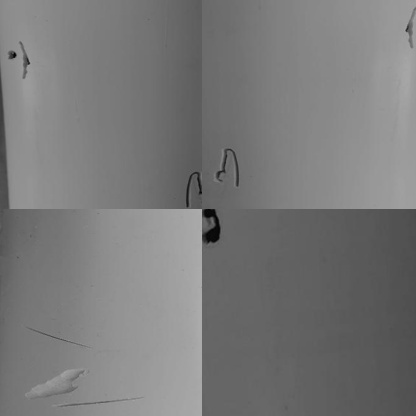fengxi: (219, 142, 243, 185), (182, 169, 202, 209)
kongdong: (201, 207, 230, 247)
sunshang: (22, 361, 85, 395), (61, 391, 153, 410), (27, 322, 91, 345), (7, 37, 40, 79)
